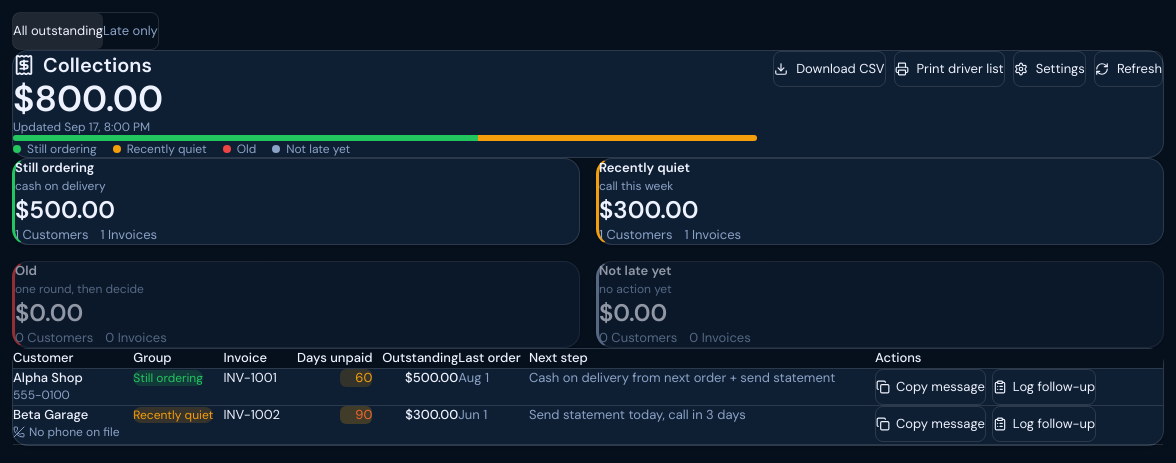
Scenario: Collections page › filters the table when a group card is clicked
Click the button with aria-label "Filter group 1" at point(55, 168), box [12,158,580,245]
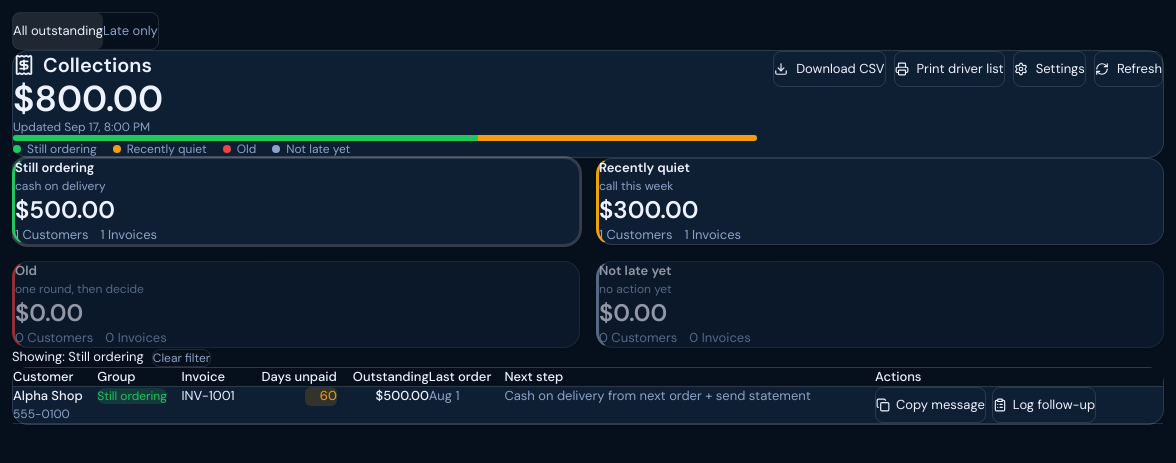
expect the text "Alpha Shop" is shown: met, box [13,387,83,404]
expect the text "Beta Garage" is gone: met
Click the button with aria-label "Filter group 1" at point(55, 168), box [12,158,580,245]
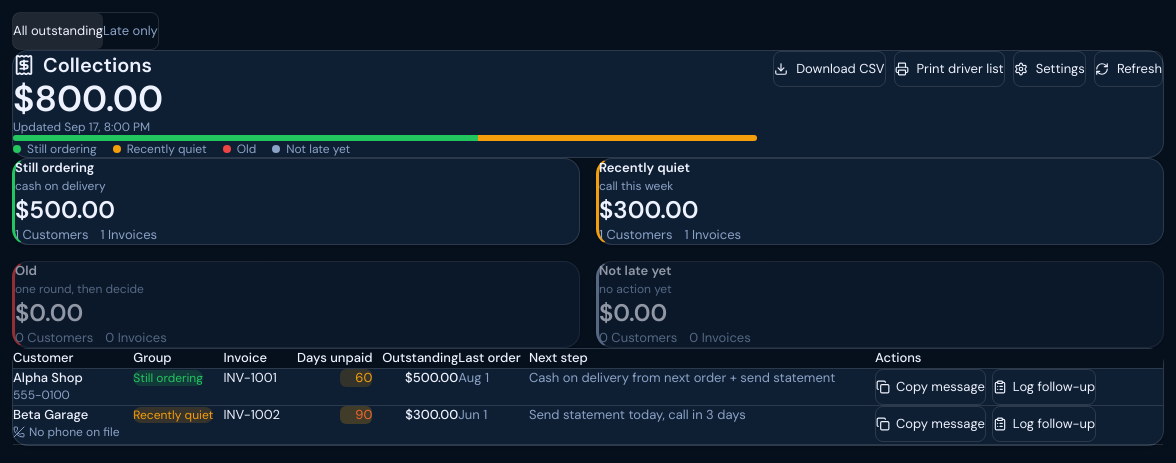
expect the text "Beta Garage" is shown: met, box [13,406,88,423]
